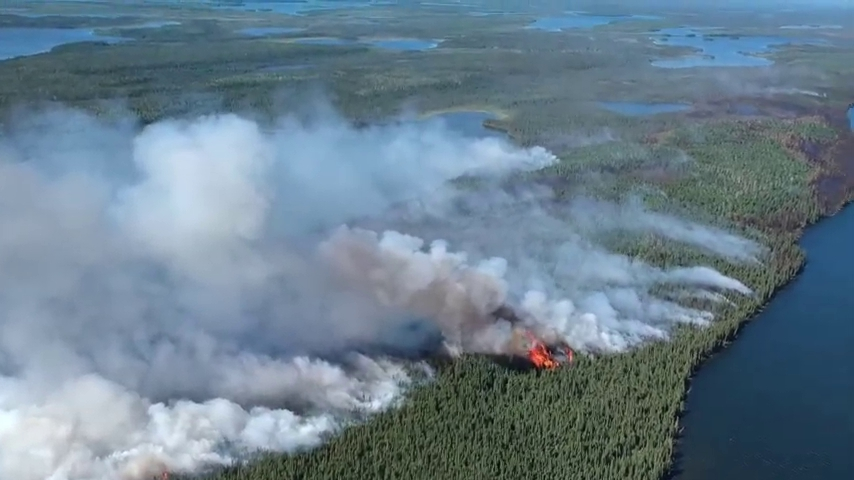forest_fire: (524, 330, 572, 369)
